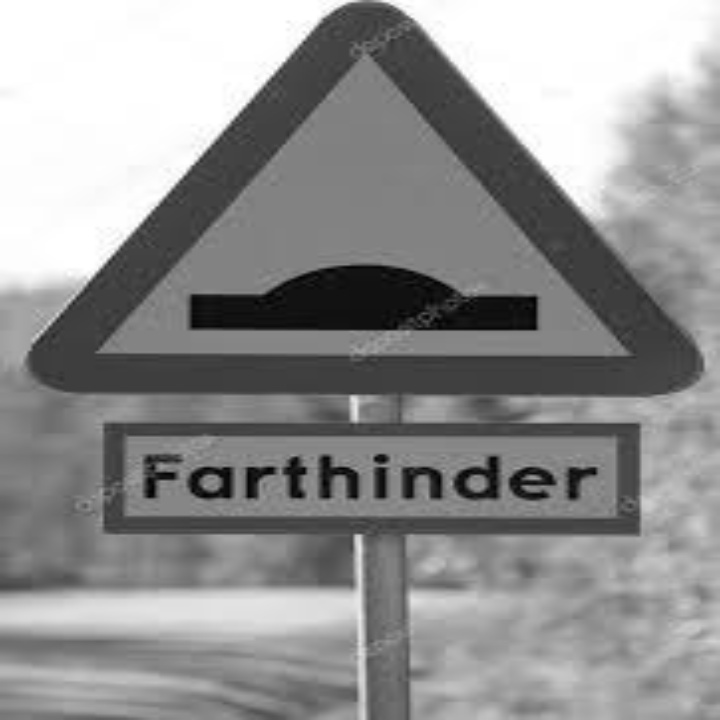bump: (160, 231, 560, 341)
